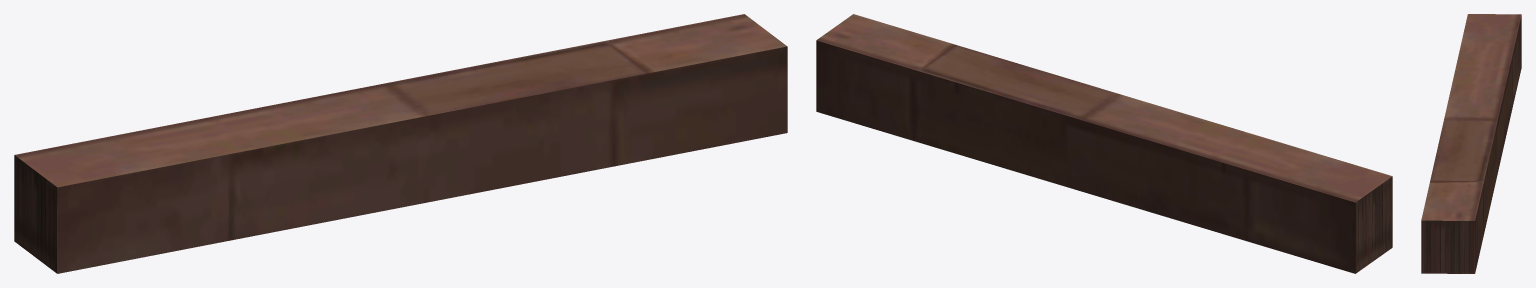
File: woodBlock2 (51).fbx
The picture shows the model from 3 angles, left to right: view 1: azimuth 30°, elevation 25°; view 2: azimuth 150°, elevation 25°; view 3: azimuth 270°, elevation 25°; orthographic projection. The views are drawn at different scales.
Visible parts, largest first — view 1: woodBlock2 (51); view 2: woodBlock2 (51); view 3: woodBlock2 (51).
Boxes of the visible parts, x1,y1,x2,y2 form: woodBlock2 (51): [14, 14, 787, 273]; woodBlock2 (51): [816, 14, 1392, 273]; woodBlock2 (51): [1421, 14, 1521, 273].
Bounding box in the file's own units: 0.8837 × 0.1055 × 0.1814.
